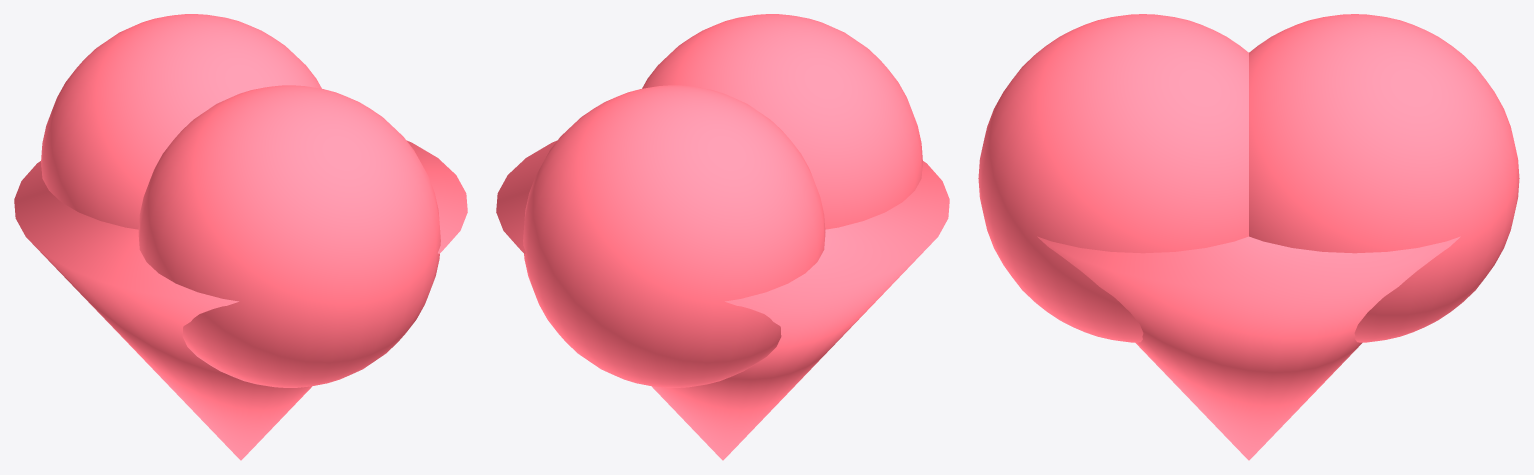
Rendered from SM_UI_Heart.glb.
The picture shows the model from 3 angles, left to right: view 1: azimuth 30°, elevation 25°; view 2: azimuth 150°, elevation 25°; view 3: azimuth 270°, elevation 25°; orthographic projection. The views are drawn at different scales.
Parts seen in each view (by area): view 1: Heart_LobeR, Heart_LobeL, Heart_Tip; view 2: Heart_LobeL, Heart_LobeR, Heart_Tip; view 3: Heart_LobeL, Heart_LobeR, Heart_Tip.
Part boxes in pixels (x1=…): Heart_LobeR: x1=138, y1=85, x2=440, y2=387; Heart_LobeL: x1=41, y1=14, x2=321, y2=229; Heart_Tip: x1=14, y1=140, x2=467, y2=460; Heart_LobeL: x1=523, y1=85, x2=825, y2=387; Heart_LobeR: x1=642, y1=14, x2=922, y2=229; Heart_Tip: x1=496, y1=140, x2=949, y2=460; Heart_LobeL: x1=1249, y1=14, x2=1519, y2=342; Heart_LobeR: x1=978, y1=14, x2=1248, y2=342; Heart_Tip: x1=1037, y1=236, x2=1460, y2=460.
Size of the model in its own units: 0.84 by 0.81 by 0.92.
